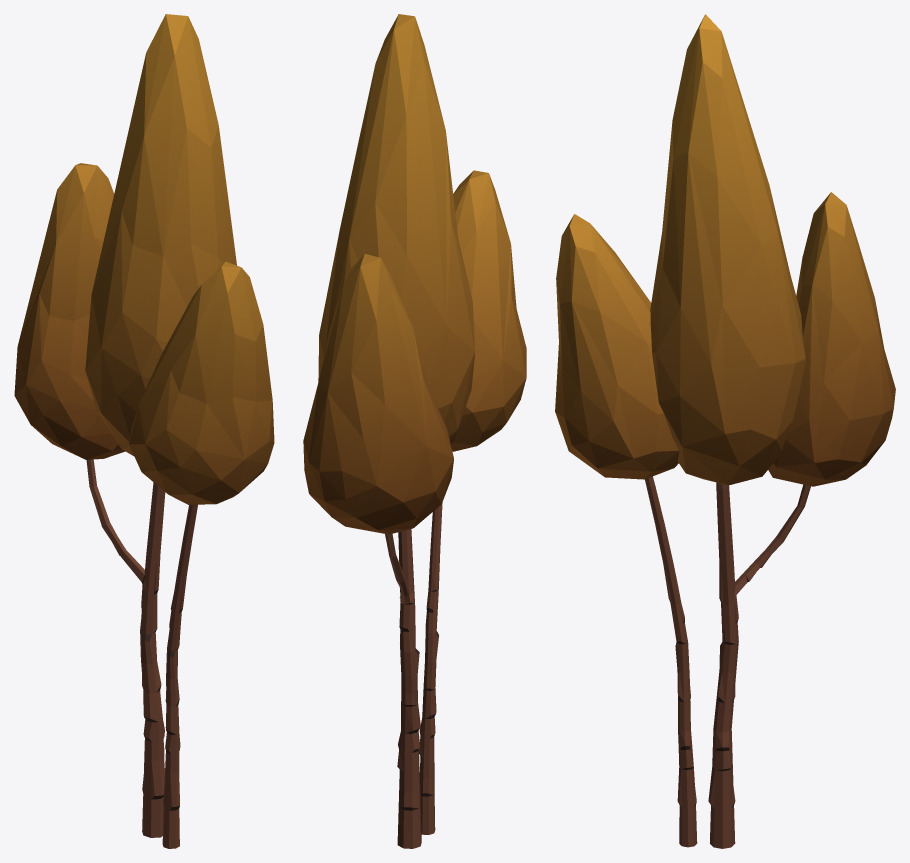
File: ZLP_Plant_J_7.FBX
3 renders of one model, left to right at view 1: azimuth 30°, elevation 25°; view 2: azimuth 150°, elevation 25°; view 3: azimuth 270°, elevation 25°, orthographic.
Visible parts, largest first — view 1: ZLP_Plant_J_7; view 2: ZLP_Plant_J_7; view 3: ZLP_Plant_J_7.
Part boxes in pixels (box(x1,y1,x2,y2)): ZLP_Plant_J_7: box(14, 14, 274, 848); ZLP_Plant_J_7: box(303, 14, 526, 848); ZLP_Plant_J_7: box(555, 14, 895, 848).
Bounding box in the file's own units: 217 × 1012 × 376.
